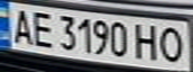0: (109, 19, 133, 58)
1: (72, 16, 93, 53)
3: (54, 12, 78, 52)
9: (90, 17, 112, 56)
A: (6, 6, 36, 45)
E: (27, 8, 57, 48)
H: (133, 20, 163, 61)
O: (157, 25, 187, 64)
